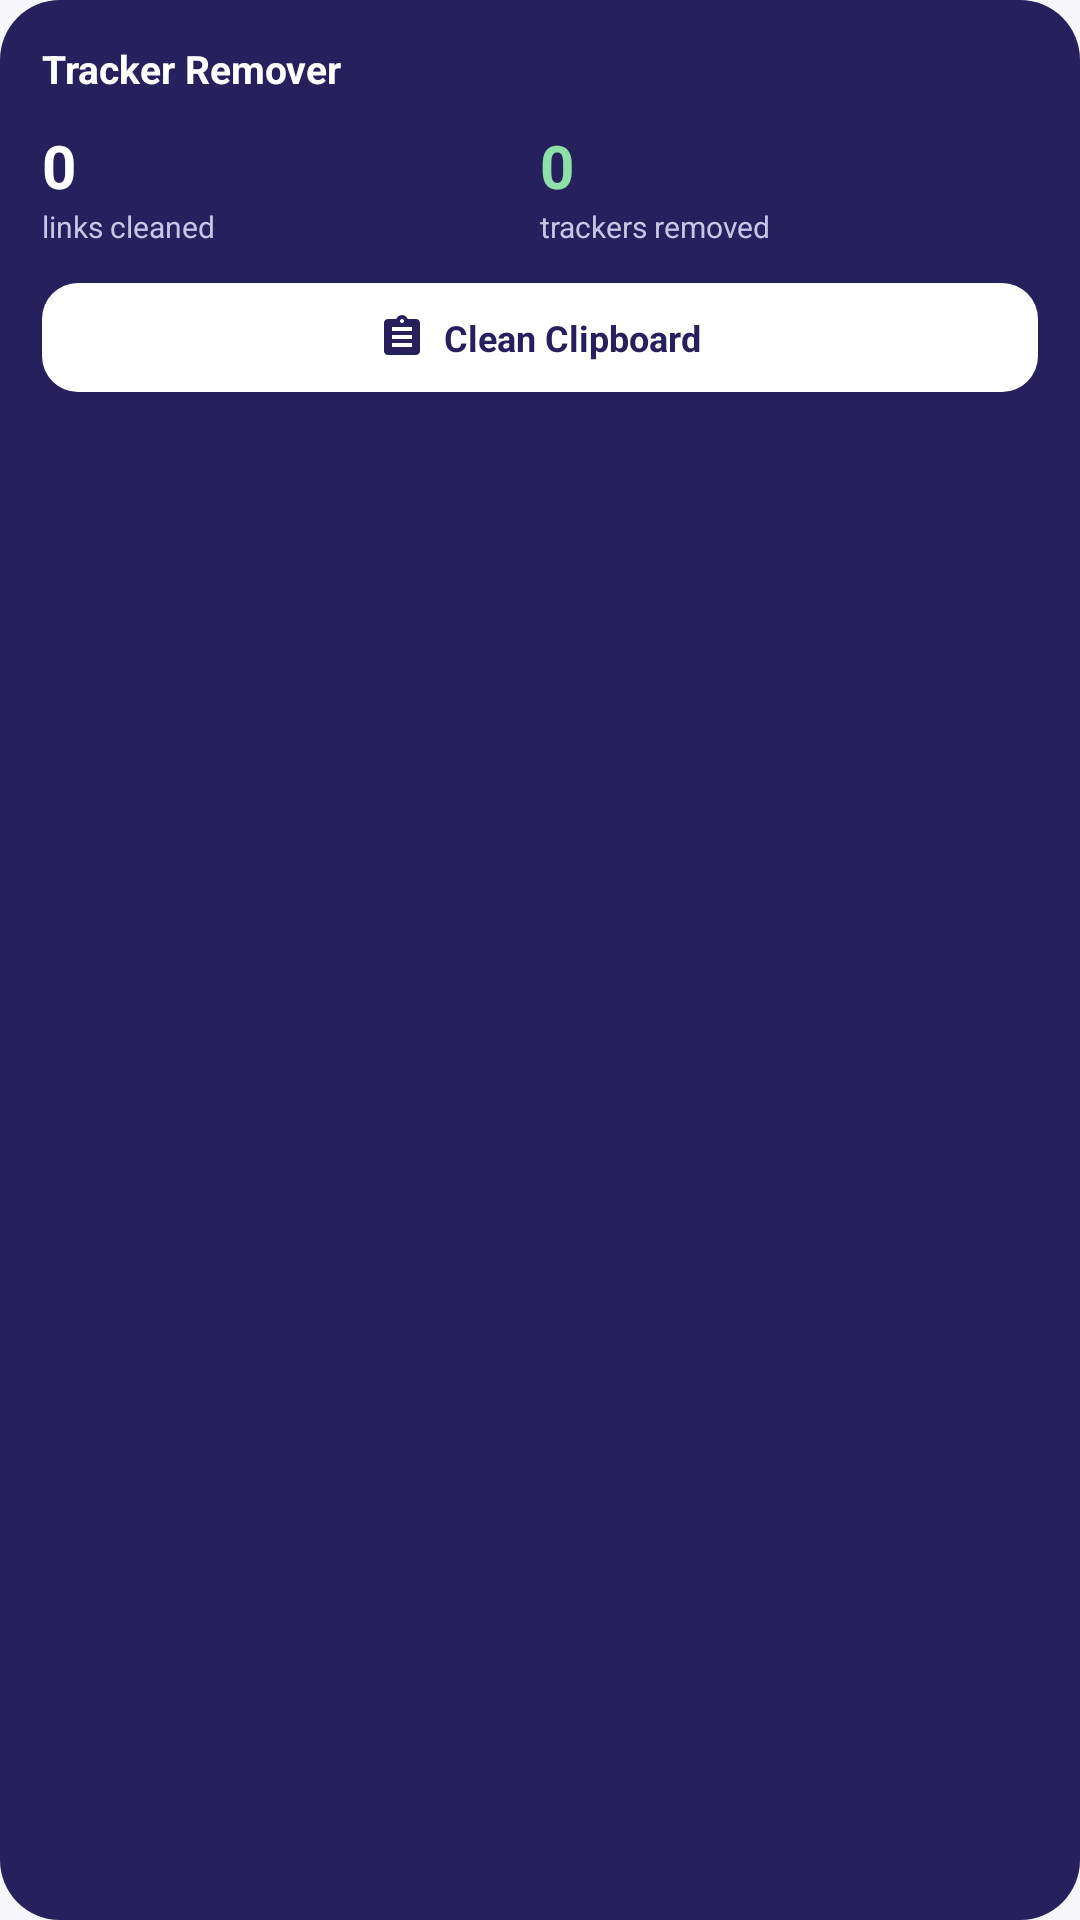

Point at icon controls on the screen. Image size 1080×1920, points as [x,y].
paste: [402,335]
